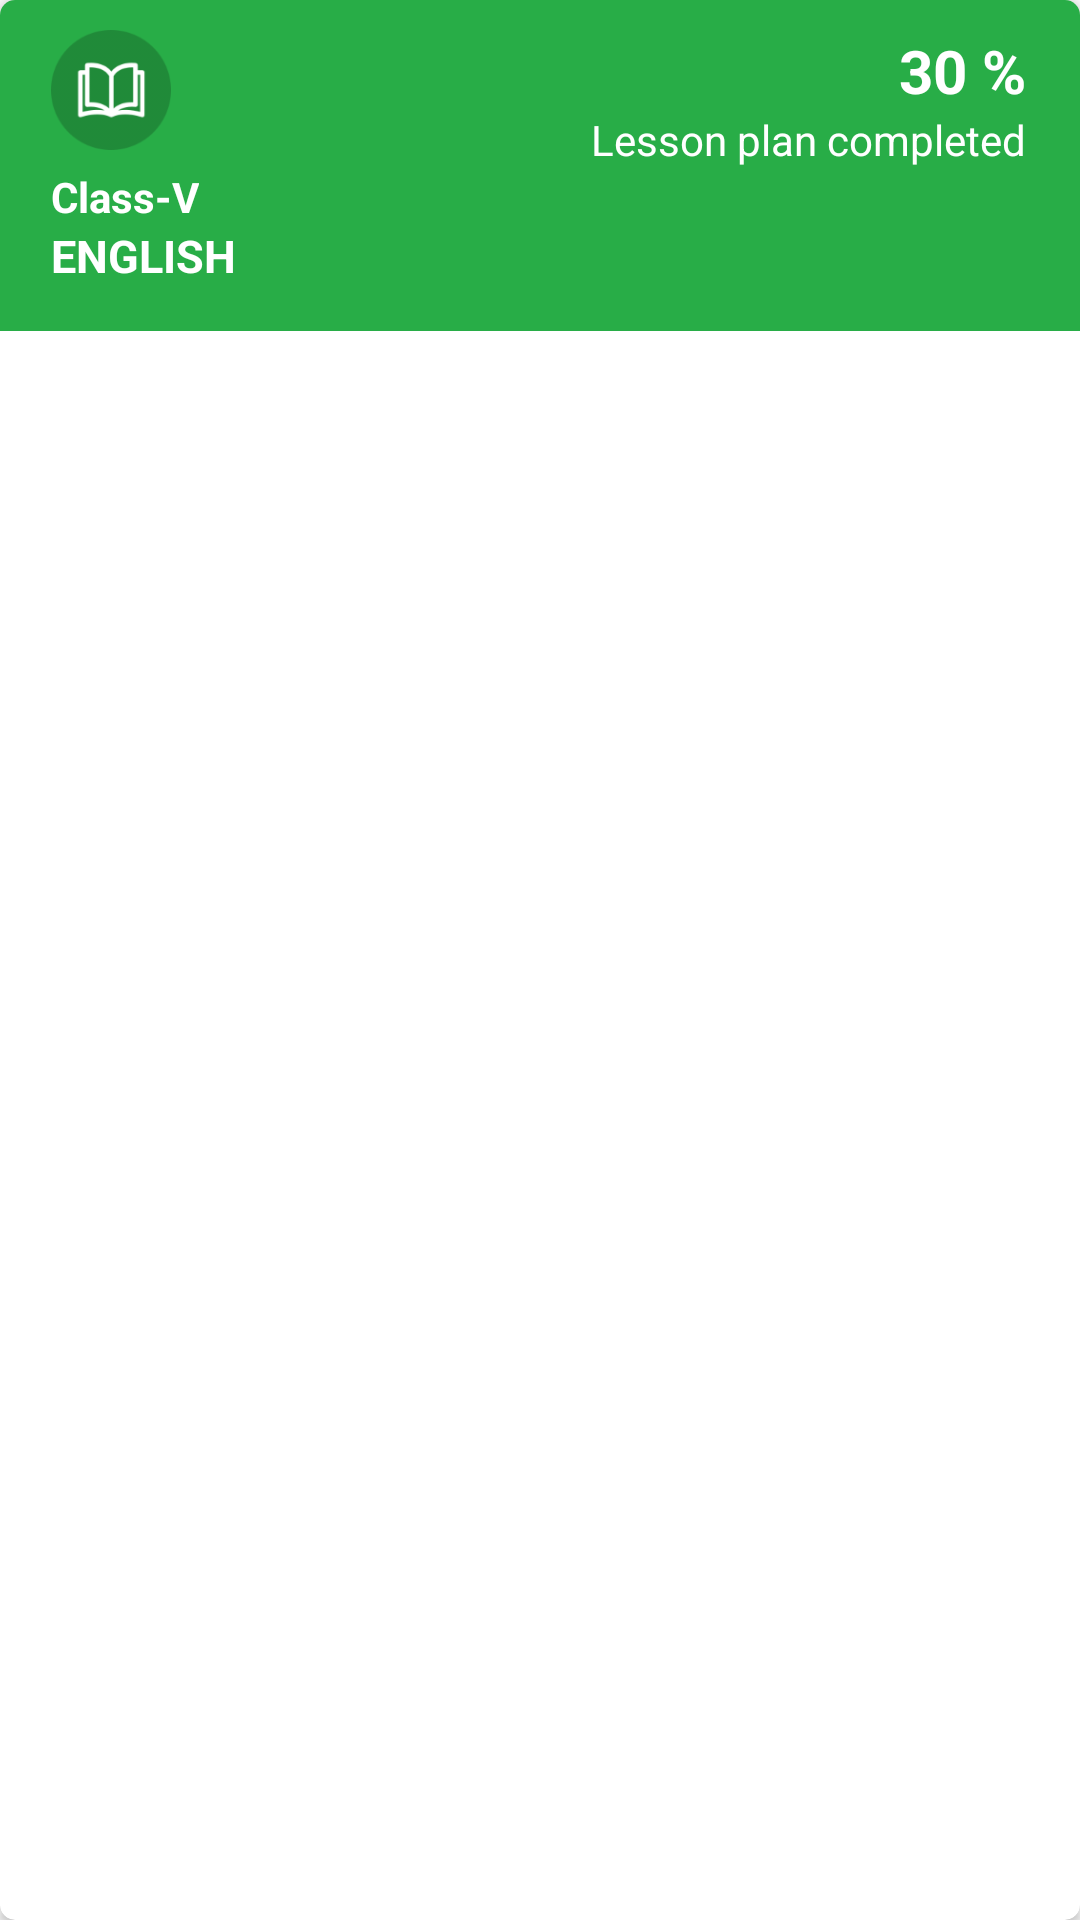

Icon click points for this 1080px x 1920px phone screenshot, format (x,y):
book: (111,90)
